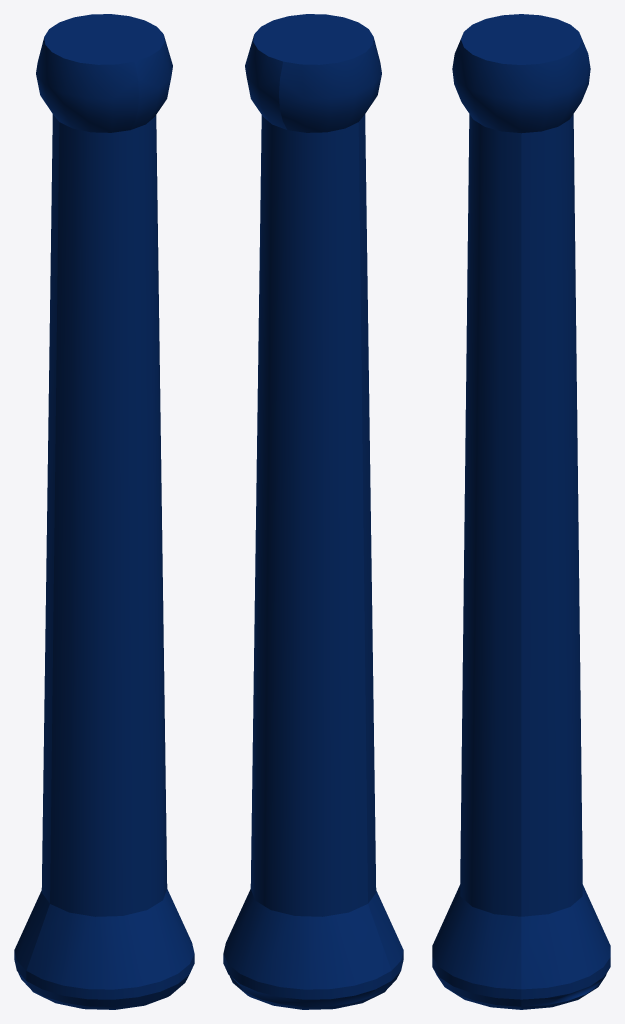
File: adjustable_tool_arm.dae
The picture shows the model from 3 angles, left to right: view 1: azimuth 30°, elevation 25°; view 2: azimuth 150°, elevation 25°; view 3: azimuth 270°, elevation 25°; orthographic projection.
Visible parts, largest first — view 1: a7052fa6-8885-4489-8324-4d579d15c28e; view 2: a7052fa6-8885-4489-8324-4d579d15c28e; view 3: a7052fa6-8885-4489-8324-4d579d15c28e.
Part boxes in pixels (x1,y1,x2,y2): a7052fa6-8885-4489-8324-4d579d15c28e: (14,14,194,1009); a7052fa6-8885-4489-8324-4d579d15c28e: (223,14,403,1009); a7052fa6-8885-4489-8324-4d579d15c28e: (432,14,610,1009).
Size of the model in its own units: 0.0164 by 0.0162 by 0.0941.
